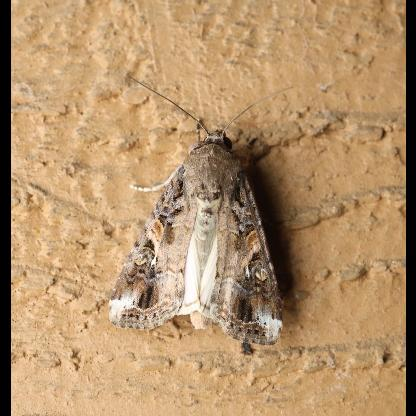Fall Armyworm Moth: (104, 75, 286, 351)
